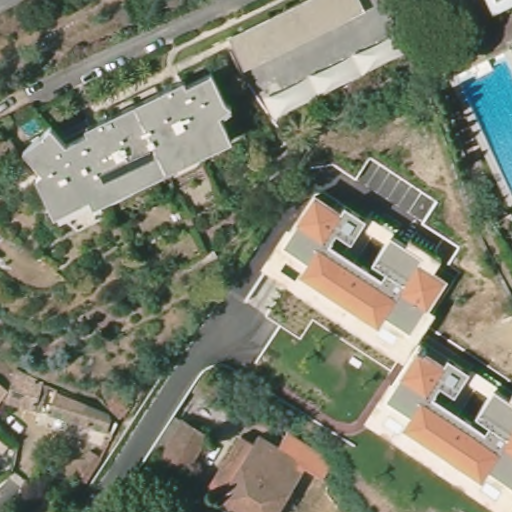pool: (459, 59, 512, 207), (16, 111, 51, 138)
